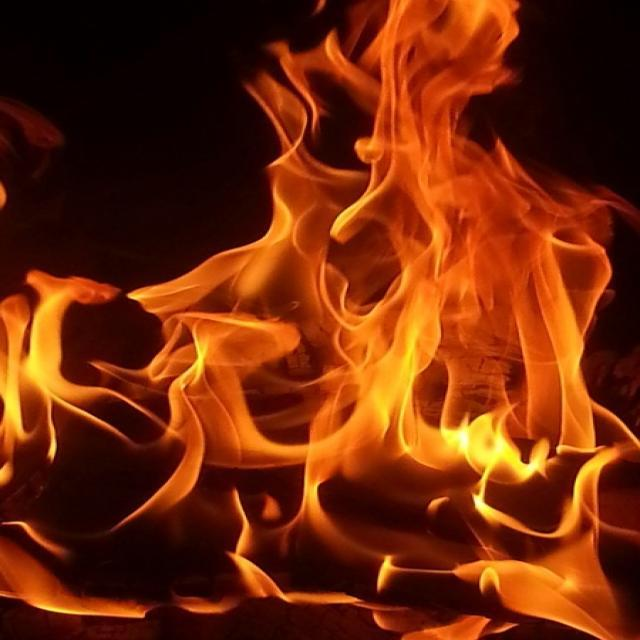Fire: (260, 1, 631, 403), (0, 270, 251, 616), (263, 409, 636, 640)
